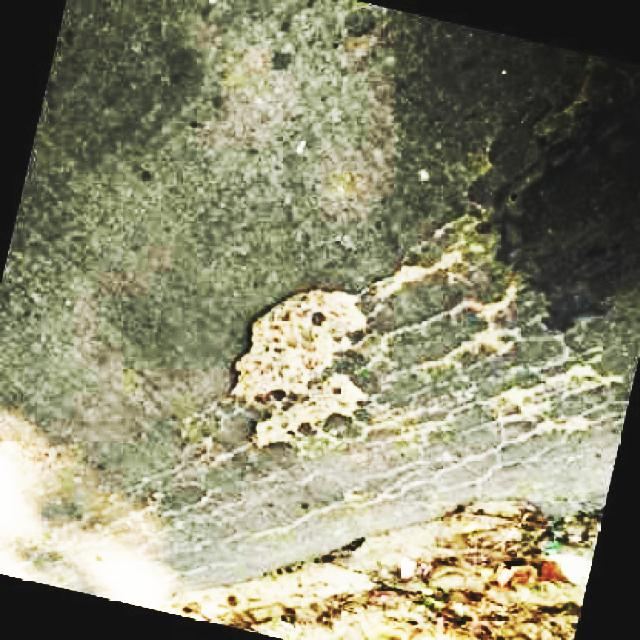pothole: (234, 288, 371, 452)
